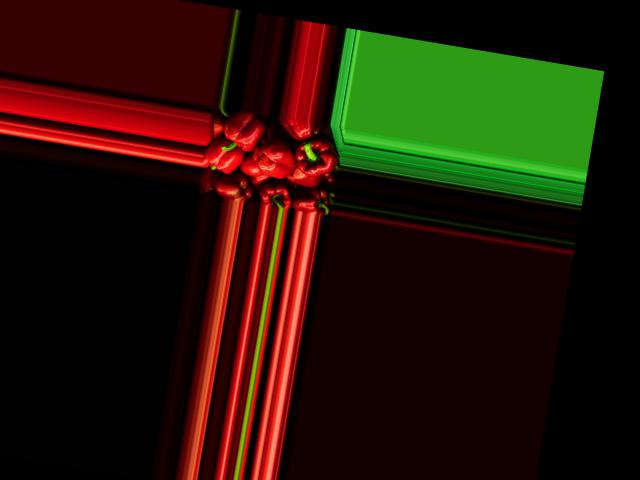bell_pepper: (293, 184, 333, 215)
